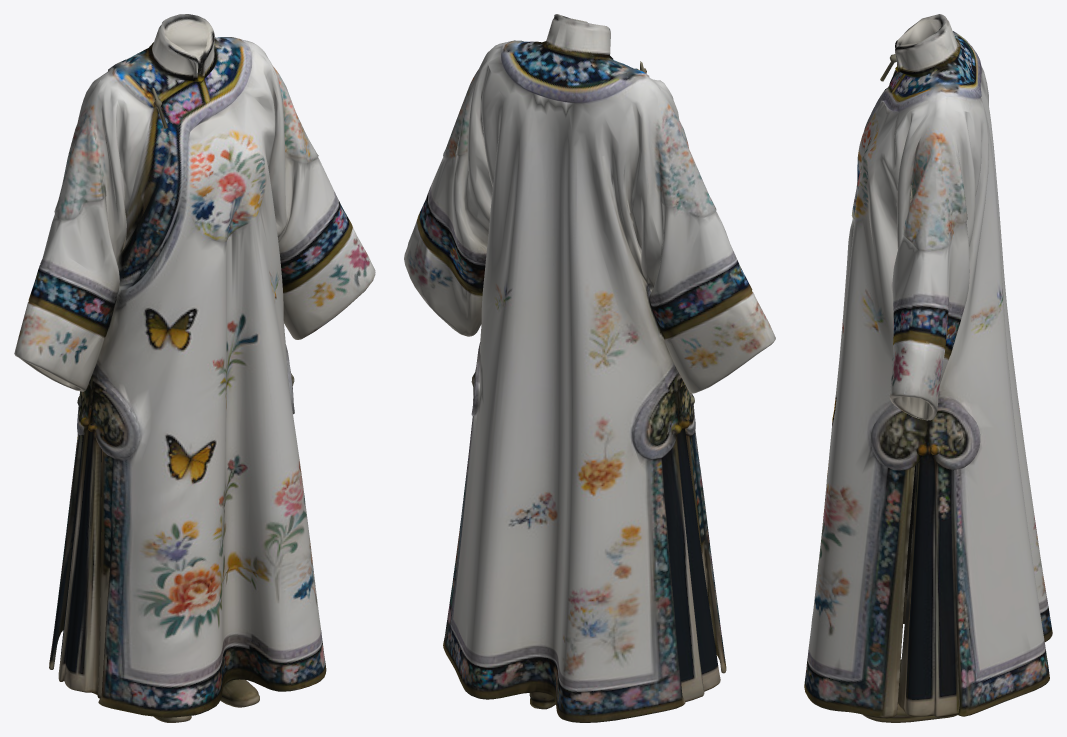
Rendered from yuebai.glb.
3 views of the same model, side by side, from view 1: azimuth 30°, elevation 25°; view 2: azimuth 150°, elevation 25°; view 3: azimuth 270°, elevation 25° (orthographic). The views are drawn at different scales.
Visible parts, largest first — view 1: node_0; view 2: node_0; view 3: node_0.
Boxes of the visible parts, x1=… form: node_0: x1=14, y1=14, x2=375, y2=722; node_0: x1=404, y1=14, x2=775, y2=722; node_0: x1=804, y1=14, x2=1052, y2=722.
Bounding box in the file's own units: 0.6576 × 1.18 × 0.3918.
1 material, 1 textured.
